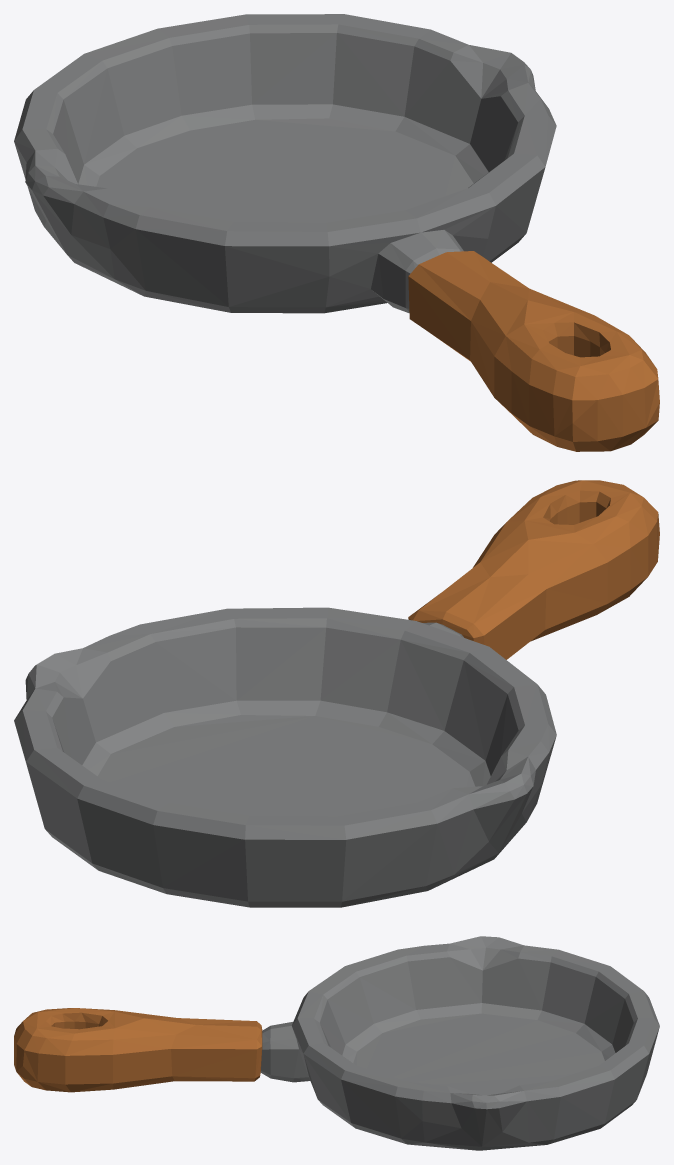
The model's file is FryingPan.fbx.
3 views of the same model, one above another, from view 1: azimuth 30°, elevation 25°; view 2: azimuth 150°, elevation 25°; view 3: azimuth 270°, elevation 25° (orthographic). The views are drawn at different scales.
Parts seen in each view (by area): view 1: FryingPan; view 2: FryingPan; view 3: FryingPan.
Boxes of the visible parts, bbox=[...] form: FryingPan: bbox=[14, 14, 659, 451]; FryingPan: bbox=[14, 480, 659, 907]; FryingPan: bbox=[14, 936, 659, 1150].
Size of the model in its own units: 0.2679 by 0.44 by 0.0505.
